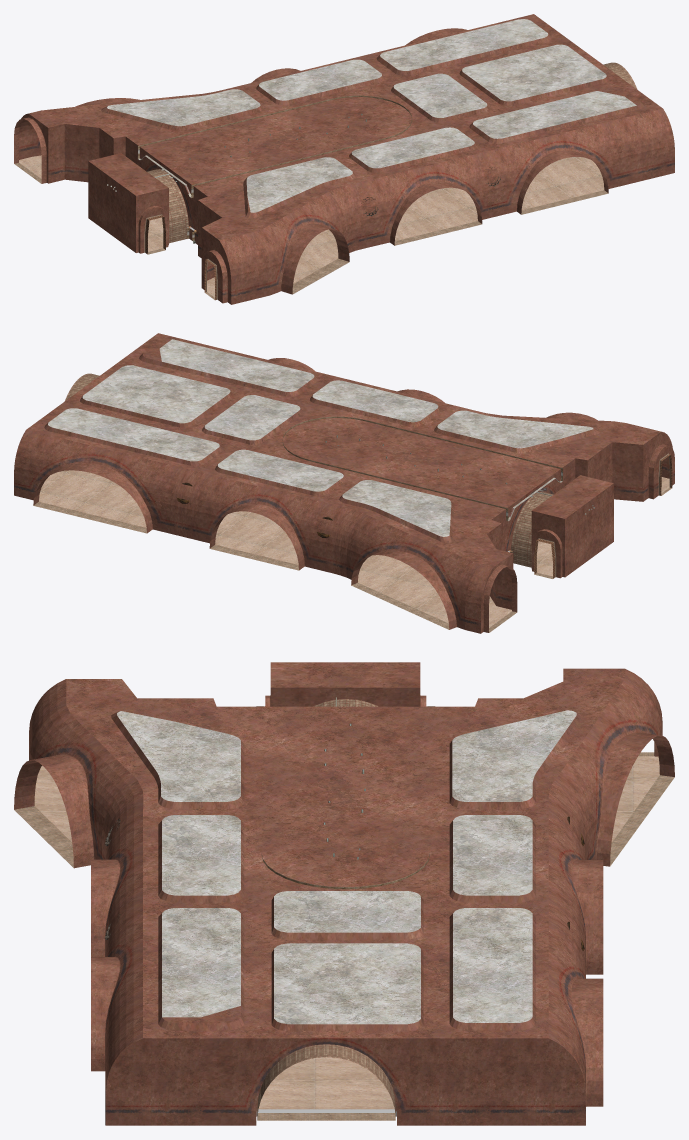
Rendered from thm_nboo_cantina_r3_cantina_mesh_r3.fbx.
3 renders of one model, top to bottom at view 1: azimuth 30°, elevation 25°; view 2: azimuth 150°, elevation 25°; view 3: azimuth 270°, elevation 25°, orthographic. The views are drawn at different scales.
Parts seen in each view (by area): view 1: mesh_node; view 2: mesh_node; view 3: mesh_node.
Boxes of the visible parts, bbox=[...] form: mesh_node: bbox=[14, 14, 674, 304]; mesh_node: bbox=[14, 333, 674, 633]; mesh_node: bbox=[14, 662, 674, 1125].
Size of the model in its own units: 46.05 by 5.17 by 33.27.
